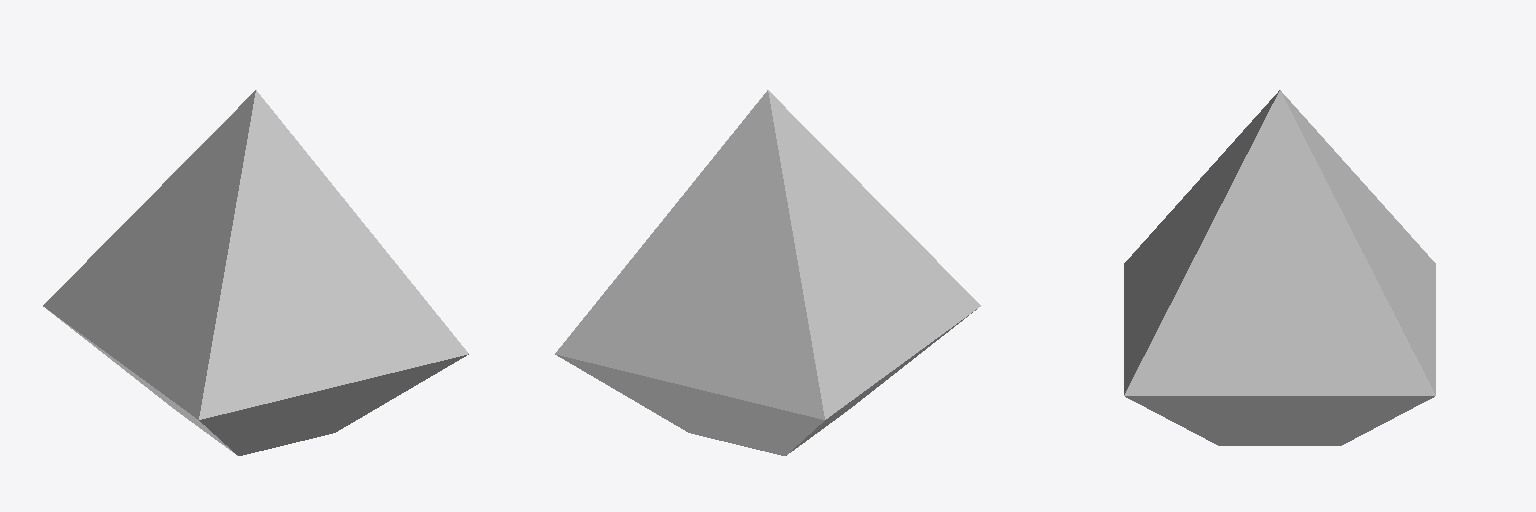
Rendered from meat 5.obj.
The picture shows the model from 3 angles: view 1: azimuth 30°, elevation 25°; view 2: azimuth 150°, elevation 25°; view 3: azimuth 270°, elevation 25°; orthographic projection.
Visible parts, largest first — view 1: Cube; view 2: Cube; view 3: Cube.
Boxes of the visible parts, <box> form: Cube: <box>43,90,468,455</box>; Cube: <box>555,90,980,455</box>; Cube: <box>1124,90,1435,445</box>.
Bounding box in the file's own units: 2 × 2.35 × 2.